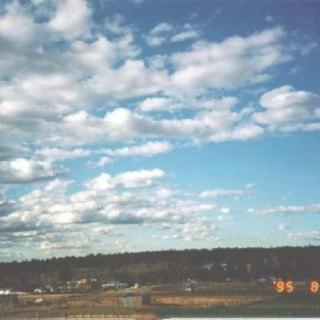Stratocumulus: (0, 0, 320, 248)
